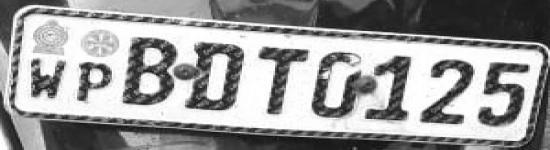0: (312, 49, 364, 121)
1: (363, 51, 416, 126)
2: (418, 53, 477, 130)
5: (476, 56, 534, 130)
B: (120, 34, 179, 111)
D: (184, 37, 247, 115)
P: (72, 61, 116, 105)
T: (254, 42, 311, 120)
W: (26, 56, 70, 103)
